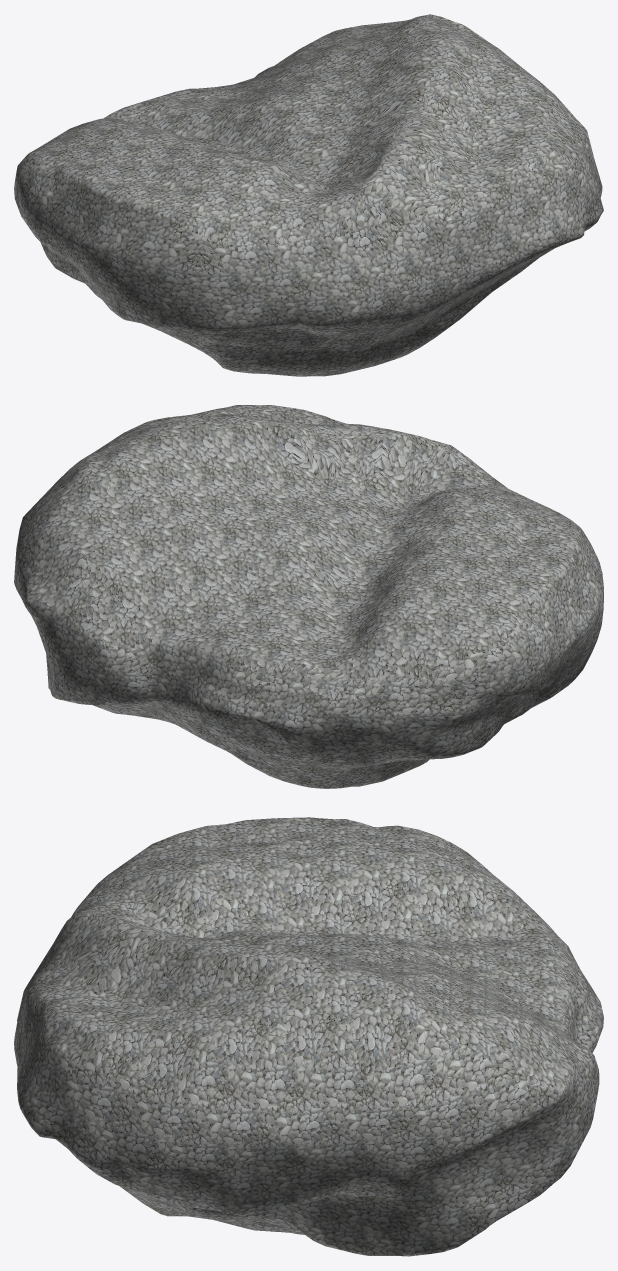
The model's file is PlatformRock1.fbx.
3 renders of one model, top to bottom at view 1: azimuth 30°, elevation 25°; view 2: azimuth 150°, elevation 25°; view 3: azimuth 270°, elevation 25°, orthographic. The views are drawn at different scales.
Parts seen in each view (by area): view 1: Sphere.001; view 2: Sphere.001; view 3: Sphere.001.
Part boxes in pixels (left/top/right/bottom): Sphere.001: left=14, top=14, right=603, bottom=376; Sphere.001: left=14, top=405, right=603, bottom=788; Sphere.001: left=14, top=817, right=603, bottom=1256.
Size of the model in its own units: 17244 by 9202 by 14640.
